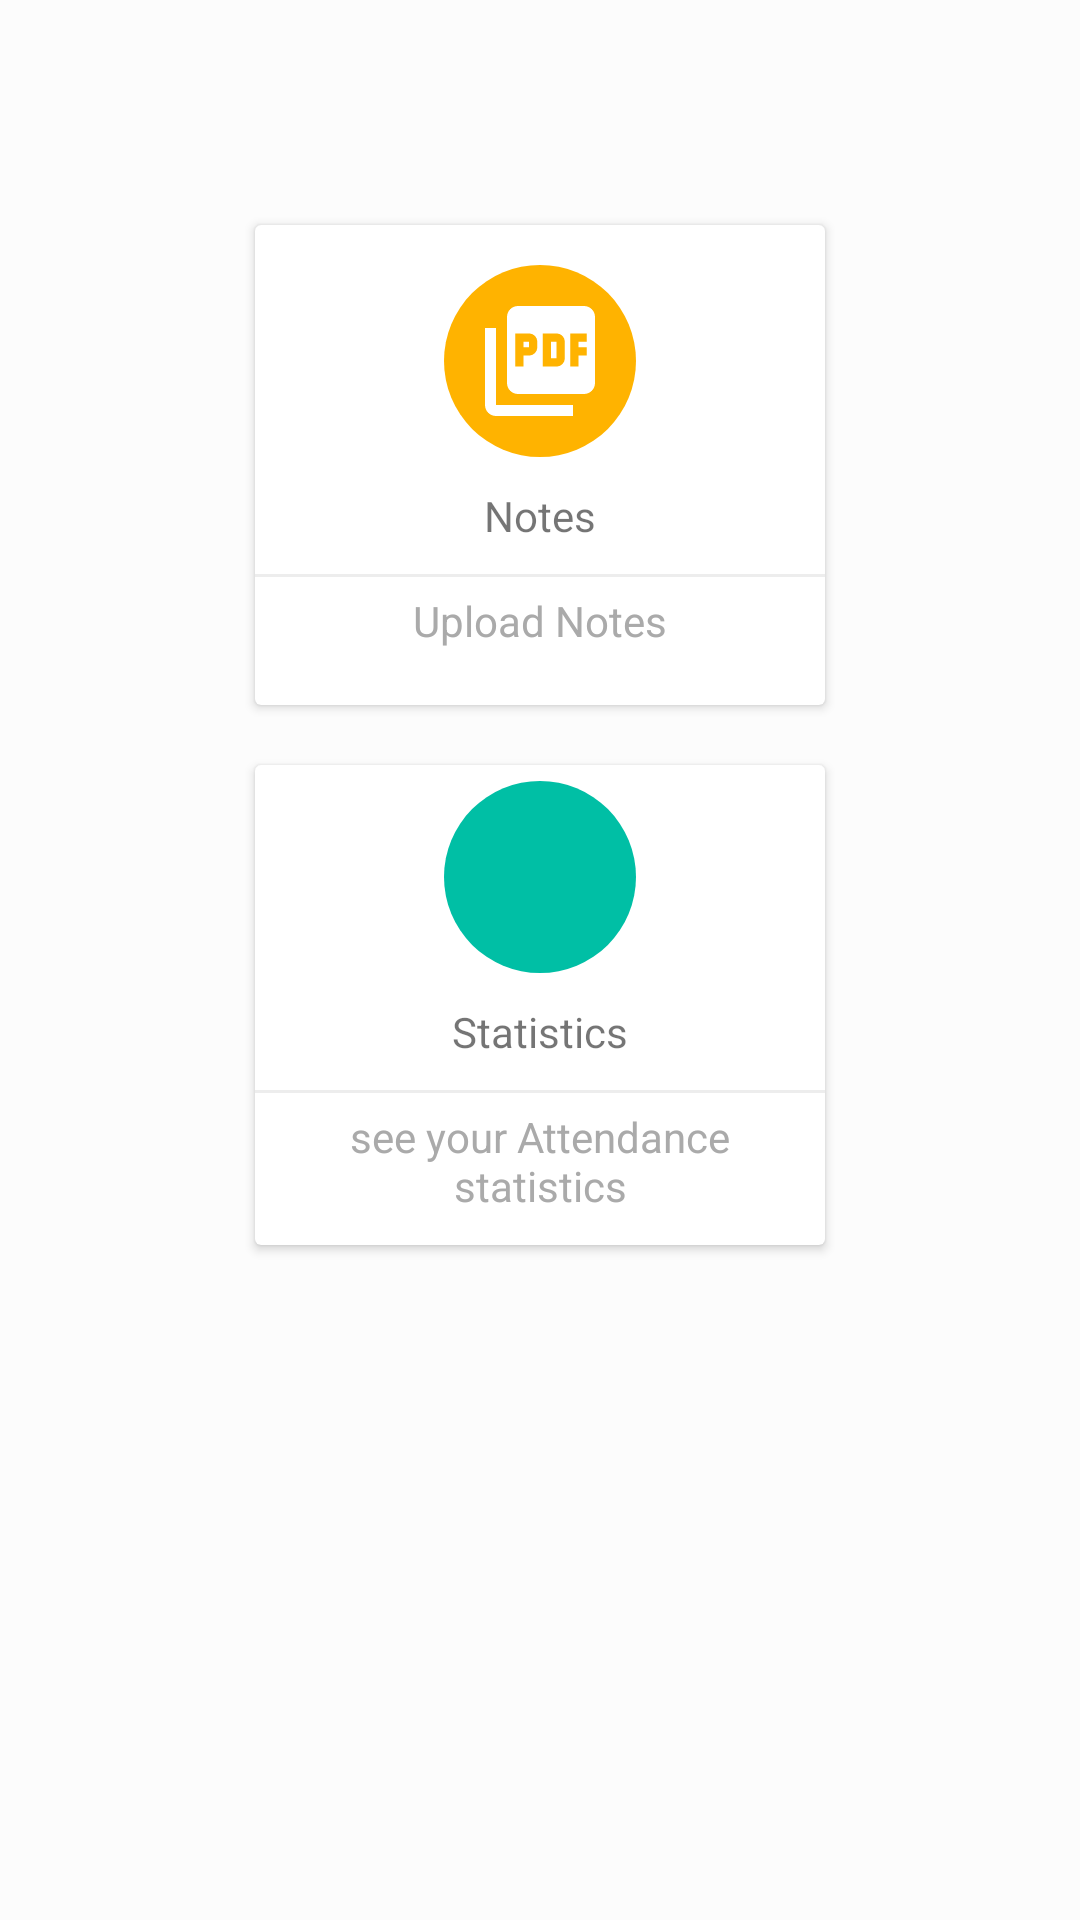

Named icons in this screenshot (1080px×1920px) and their centers, [x,y]:
picture as pdf: [540,361]
